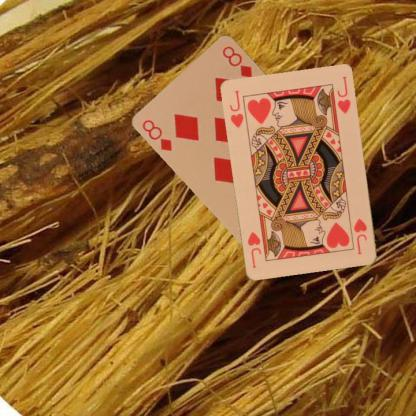8d: (140, 116, 174, 152)
Jh: (227, 88, 250, 131), (351, 216, 369, 256)
